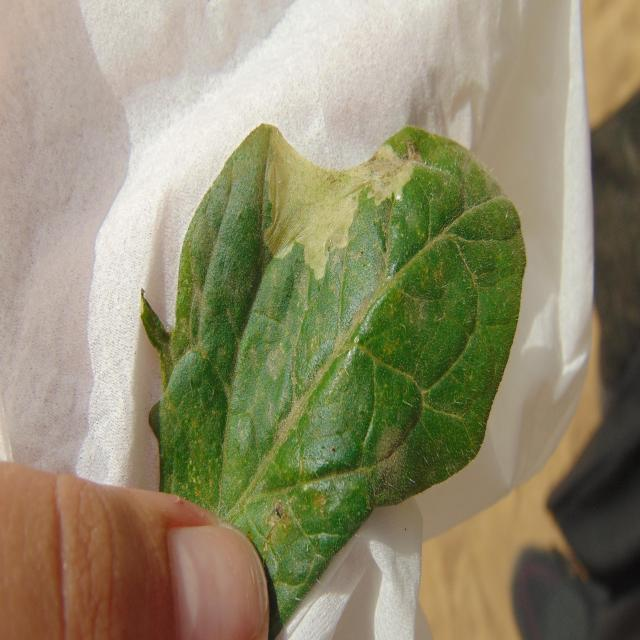Tuta absoluta: (256, 127, 423, 287)
